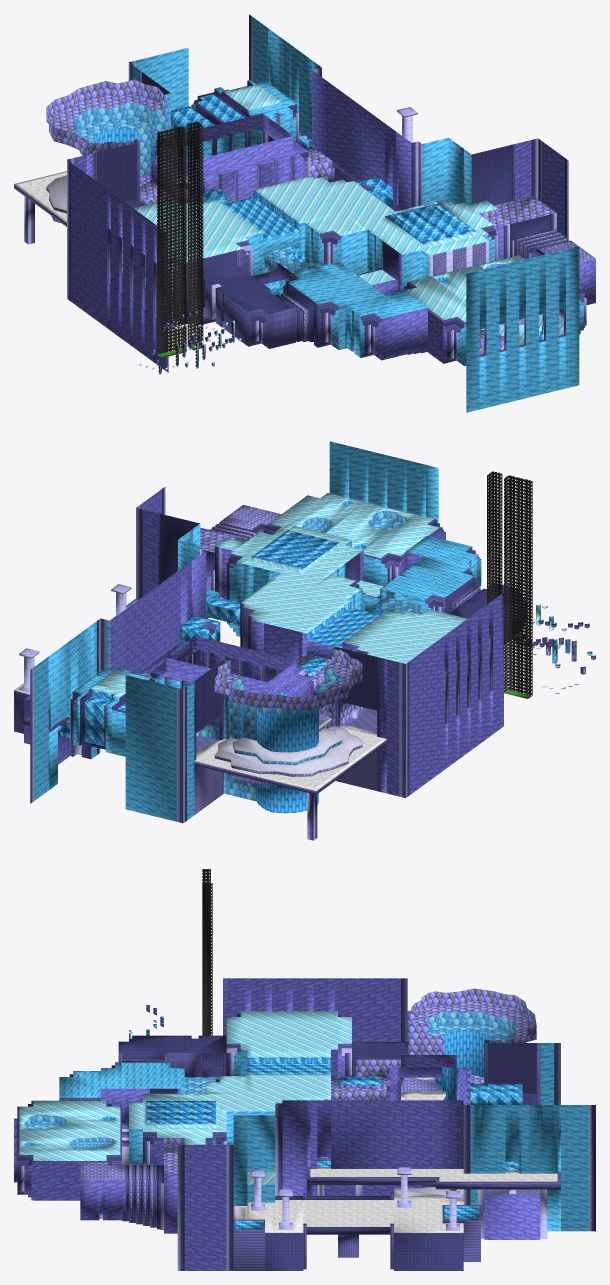
File: M_TheBiggerIcePlace.fbx
The picture shows the model from 3 angles, top to bottom: view 1: azimuth 30°, elevation 25°; view 2: azimuth 150°, elevation 25°; view 3: azimuth 270°, elevation 25°; orthographic projection. The views are drawn at different scales.
Visible parts, largest first — view 1: MAPM8, MAPM8Intangible; view 2: MAPM8, MAPM8Intangible; view 3: MAPM8, MAPM8Intangible.
Part boxes in pixels (x1,y1,x2,y2): MAPM8: (14,14,595,412); MAPM8Intangible: (14,171,214,374); MAPM8: (14,441,595,840); MAPM8Intangible: (14,616,579,791); MAPM8: (14,869,595,1270); MAPM8Intangible: (233,1077,557,1232).
Size of the model in its own units: 12900 by 7200 by 16700.
